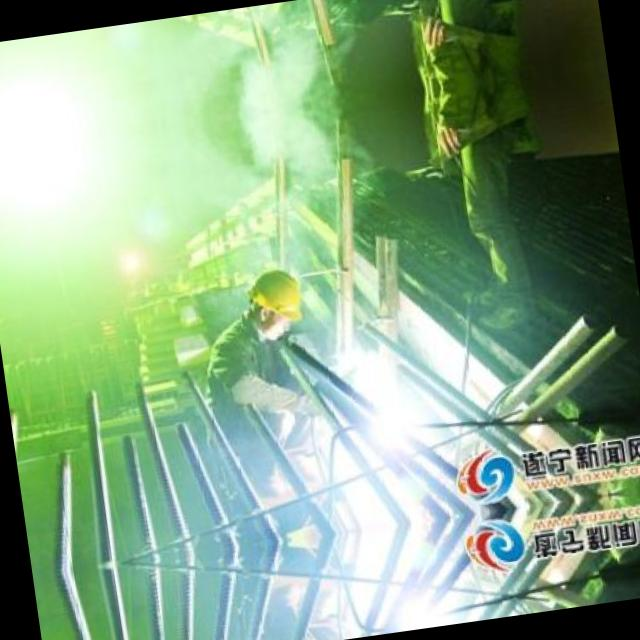helmet: (238, 253, 314, 337)
